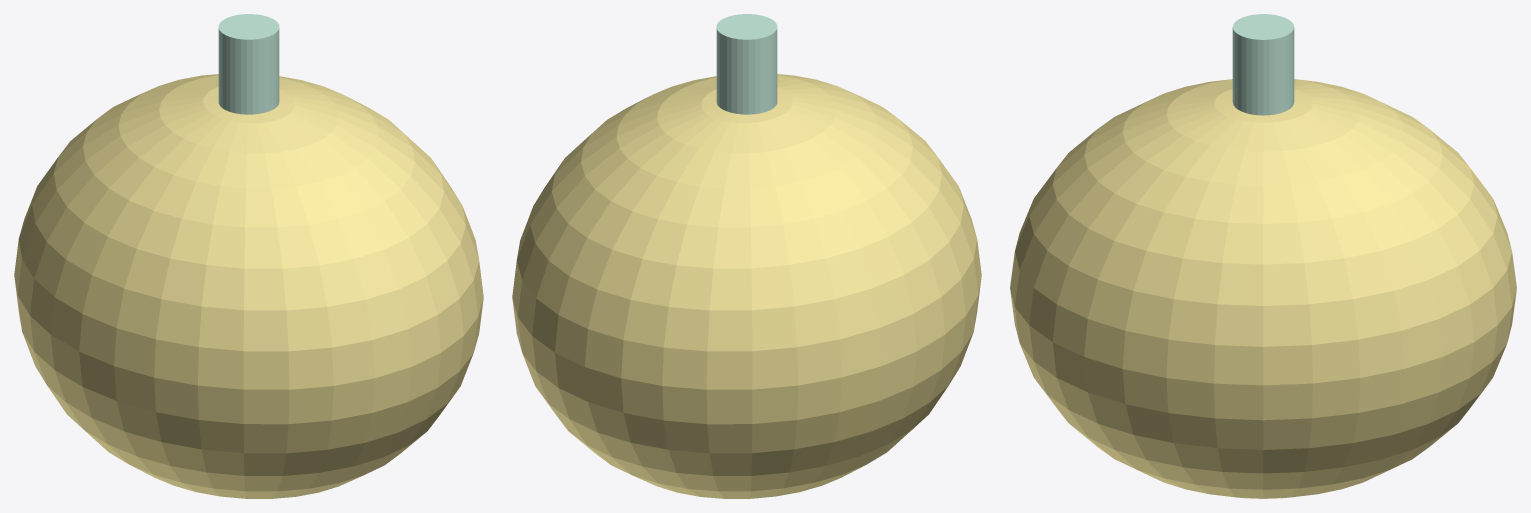
The model's file is fruit.glb.
3 renders of one model, left to right at view 1: azimuth 30°, elevation 25°; view 2: azimuth 150°, elevation 25°; view 3: azimuth 270°, elevation 25°, orthographic.
Parts seen in each view (by area): view 1: Sphere, Cylinder; view 2: Sphere, Cylinder; view 3: Sphere, Cylinder.
Part boxes in pixels (x1,y1,x2,y2): Sphere: [14, 74, 483, 498]; Cylinder: [218, 14, 279, 114]; Sphere: [512, 74, 981, 498]; Cylinder: [716, 14, 777, 114]; Sphere: [1010, 79, 1516, 498]; Cylinder: [1232, 14, 1294, 115].
Size of the model in its own units: 0.12 by 0.129 by 0.132.
